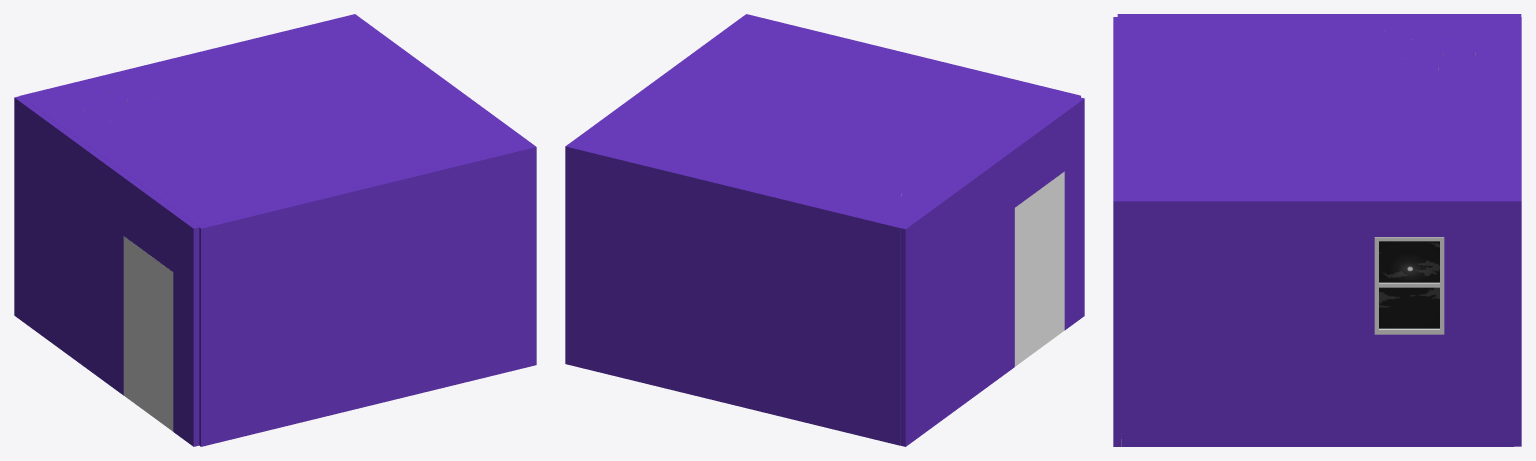
The model's file is room.fbx.
3 renders of one model, left to right at view 1: azimuth 30°, elevation 25°; view 2: azimuth 150°, elevation 25°; view 3: azimuth 270°, elevation 25°, orthographic. The views are drawn at different scales.
Parts seen in each view (by area): view 1: Box023, Box127, Box025, Box157, Box003; view 2: Box003, Box127, Box025, Box157, Box023; view 3: Box004, Box127, Plane003, Box003, Box023, Box009, Box025.
Part boxes in pixels (x1,y1,x2,y2): Box023: [199, 144, 536, 446]; Box127: [23, 17, 532, 226]; Box025: [14, 96, 199, 446]; Box157: [123, 236, 173, 431]; Box003: [20, 14, 358, 98]; Box003: [565, 143, 903, 445]; Box127: [569, 16, 1077, 225]; Box025: [900, 97, 1084, 446]; Box157: [1014, 171, 1064, 366]; Box023: [743, 14, 1080, 97]; Box004: [1121, 201, 1513, 446]; Box127: [1121, 17, 1513, 208]; Plane003: [1379, 241, 1439, 328]; Box003: [1513, 17, 1521, 446]; Box023: [1113, 17, 1121, 446]; Box009: [1374, 237, 1444, 334]; Box025: [1117, 14, 1521, 17].
Size of the model in its own units: 322 by 296 by 203.
